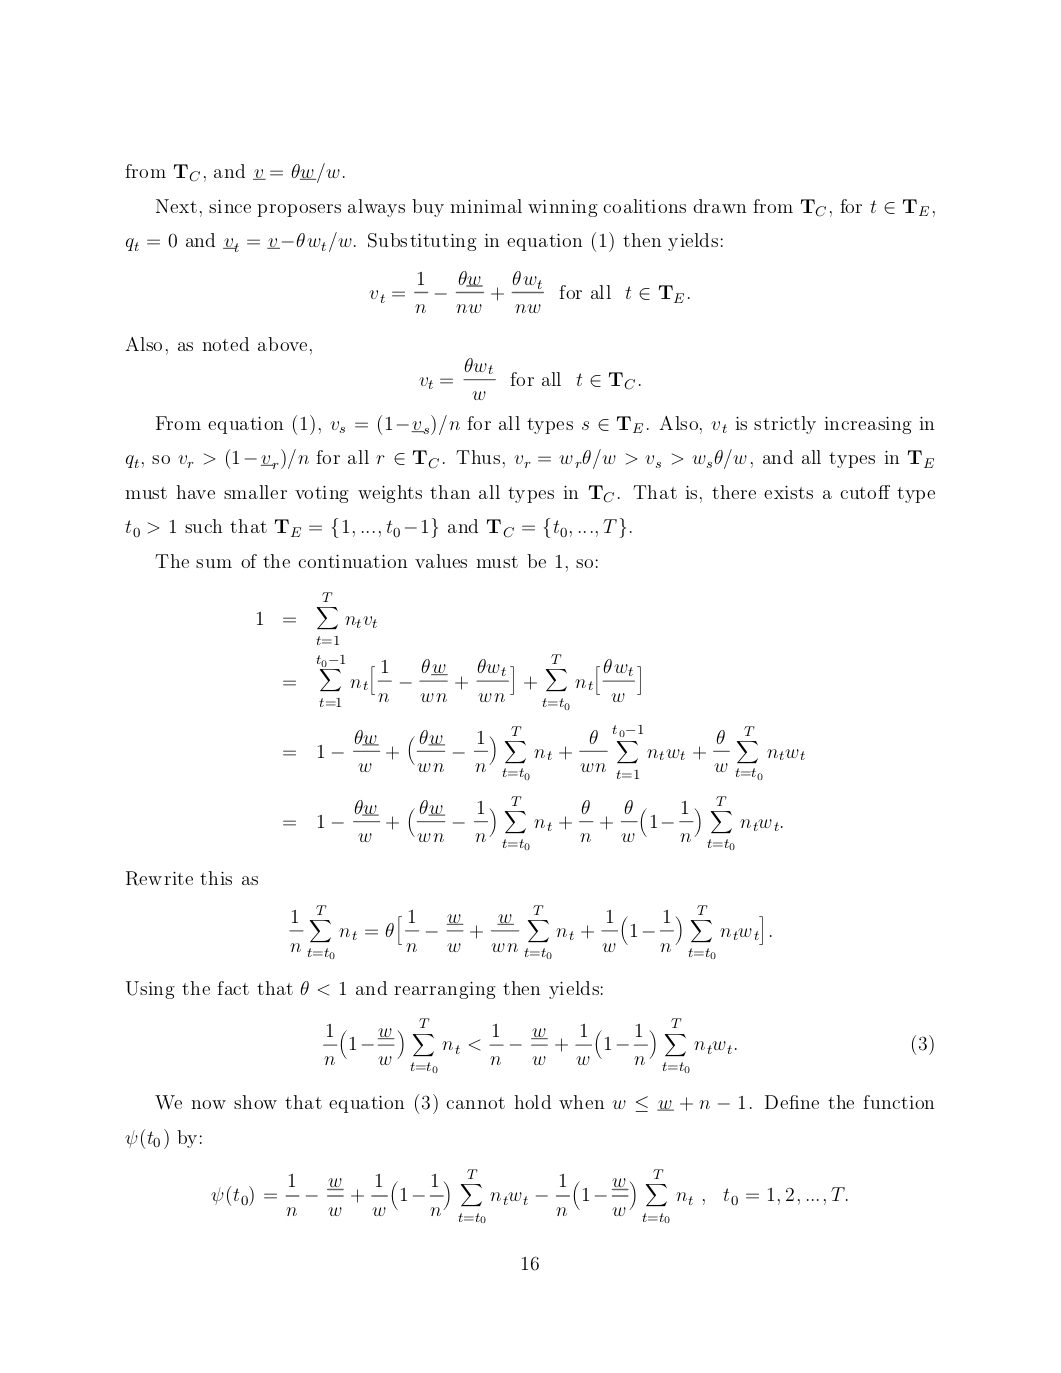formula: (211, 1168, 847, 1224), (323, 1017, 933, 1074), (283, 723, 804, 781), (283, 795, 782, 851), (289, 904, 771, 960), (283, 653, 640, 711), (369, 270, 689, 314), (419, 358, 640, 400), (256, 592, 376, 644)
